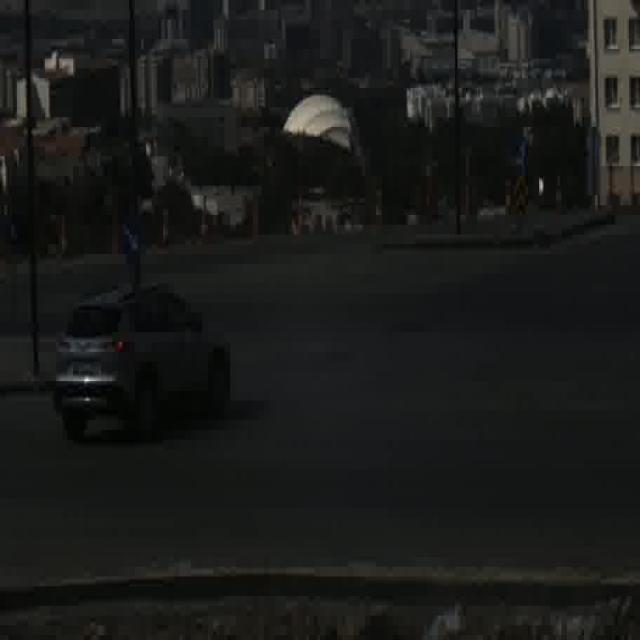Car: (55, 280, 232, 440)
